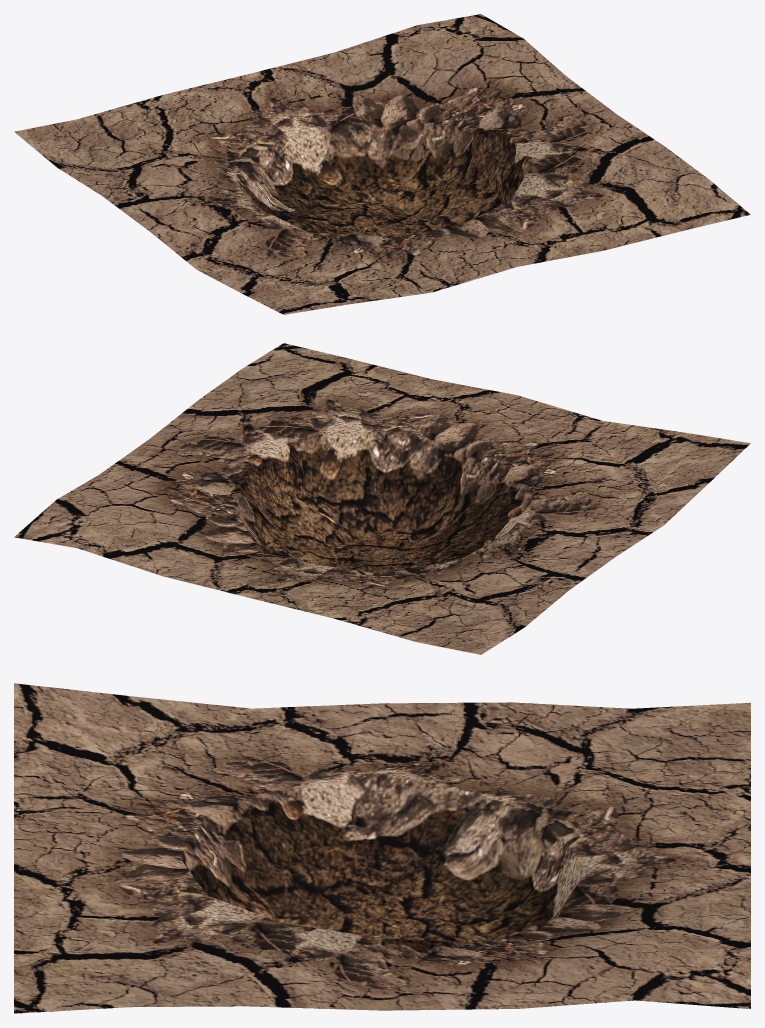
File: Dirt_Hole.fbx
3 renders of one model, top to bottom at view 1: azimuth 30°, elevation 25°; view 2: azimuth 150°, elevation 25°; view 3: azimuth 270°, elevation 25°, orthographic. The views are drawn at different scales.
Parts seen in each view (by area): view 1: Soil_Hole; view 2: Soil_Hole; view 3: Soil_Hole.
Part boxes in pixels (x1,y1,x2,y2): Soil_Hole: (14, 14, 750, 314); Soil_Hole: (14, 343, 750, 654); Soil_Hole: (14, 683, 750, 1013).
Size of the model in its own units: 111 by 19.07 by 111.
